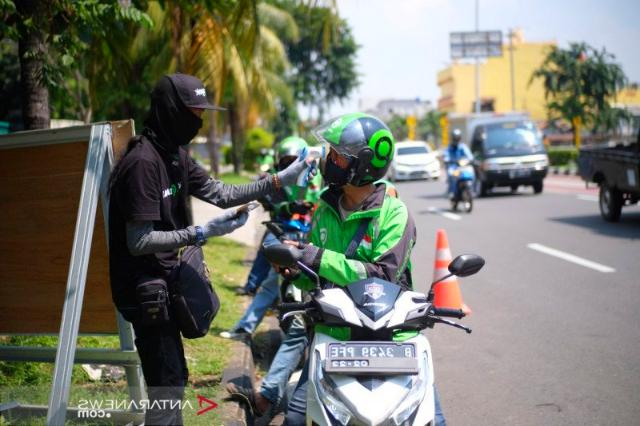helm: (312, 113, 397, 200)
motor: (259, 242, 490, 426)
